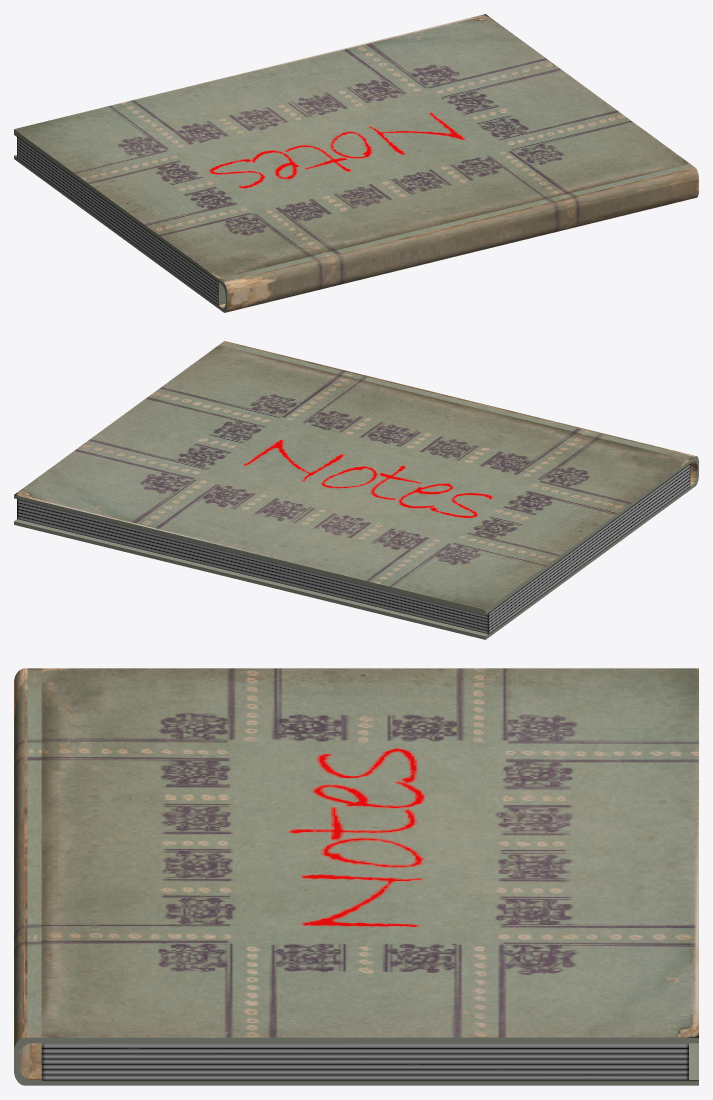
The model's file is Notes book.fbx.
3 views of the same model, one above another, from view 1: azimuth 30°, elevation 25°; view 2: azimuth 150°, elevation 25°; view 3: azimuth 270°, elevation 25° (orthographic). The views are drawn at different scales.
Parts seen in each view (by area): view 1: Cube.001; view 2: Cube.001; view 3: Cube.001.
Part boxes in pixels (<box>): Cube.001: <box>14,14,698,312</box>; Cube.001: <box>14,341,698,639</box>; Cube.001: <box>14,668,698,1085</box>.
Size of the model in its own units: 281 by 16.99 by 220.
1 material, 1 textured.
